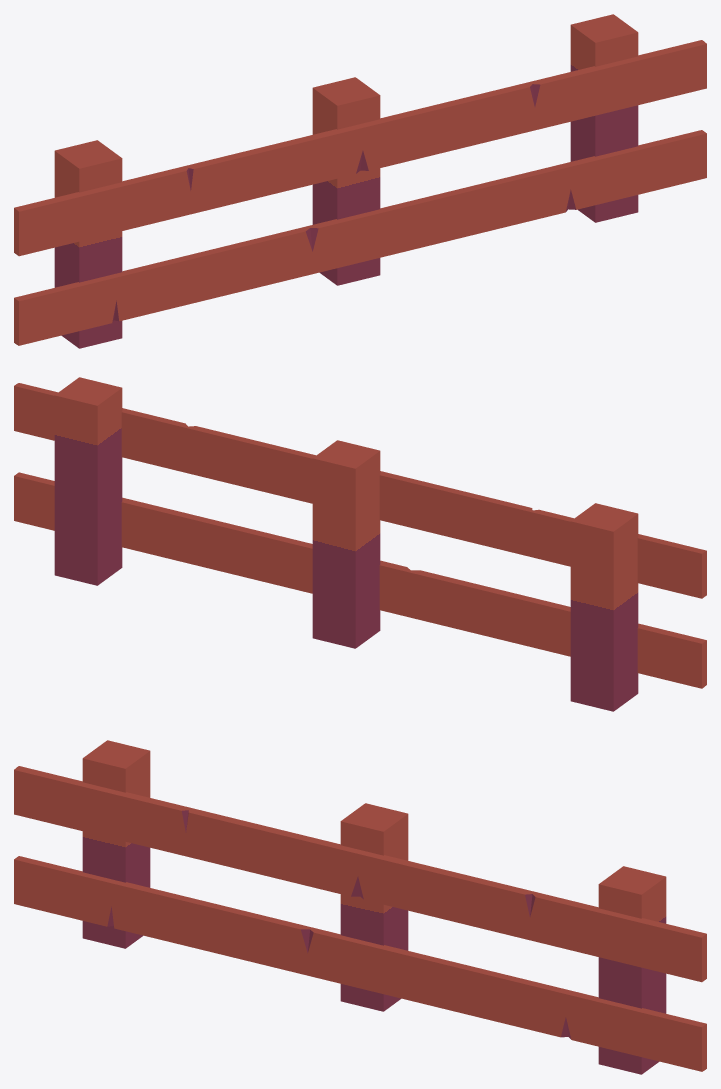
The model's file is Fence.glb.
3 renders of one model, top to bottom at view 1: azimuth 30°, elevation 25°; view 2: azimuth 150°, elevation 25°; view 3: azimuth 330°, elevation 25°, orthographic.
Parts seen in each view (by area): view 1: Cube.003, Cube.004, Cube, Cube.002, Cube.001; view 2: Cube.004, Cube.003, Cube.001, Cube, Cube.002; view 3: Cube.003, Cube.004, Cube, Cube.001, Cube.002.
Part boxes in pixels (left/top/right/bottom): Cube.003: left=14, top=40, right=706, bottom=256; Cube.004: left=14, top=130, right=706, bottom=345; Cube: left=312, top=77, right=380, bottom=285; Cube.002: left=54, top=140, right=122, bottom=348; Cube.001: left=570, top=14, right=638, bottom=222; Cube.004: left=14, top=472, right=706, bottom=688; Cube.003: left=14, top=383, right=706, bottom=598; Cube.001: left=54, top=377, right=122, bottom=585; Cube: left=312, top=440, right=380, bottom=648; Cube.002: left=570, top=503, right=638, bottom=711; Cube.003: left=14, top=766, right=706, bottom=982; Cube.004: left=14, top=856, right=706, bottom=1071; Cube: left=340, top=803, right=408, bottom=1011; Cube.001: left=598, top=866, right=666, bottom=1074; Cube.002: left=82, top=740, right=150, bottom=948.
Bounding box in the file's own units: 8 × 2 × 0.582.
Materials: 1 (1 with a texture image).
